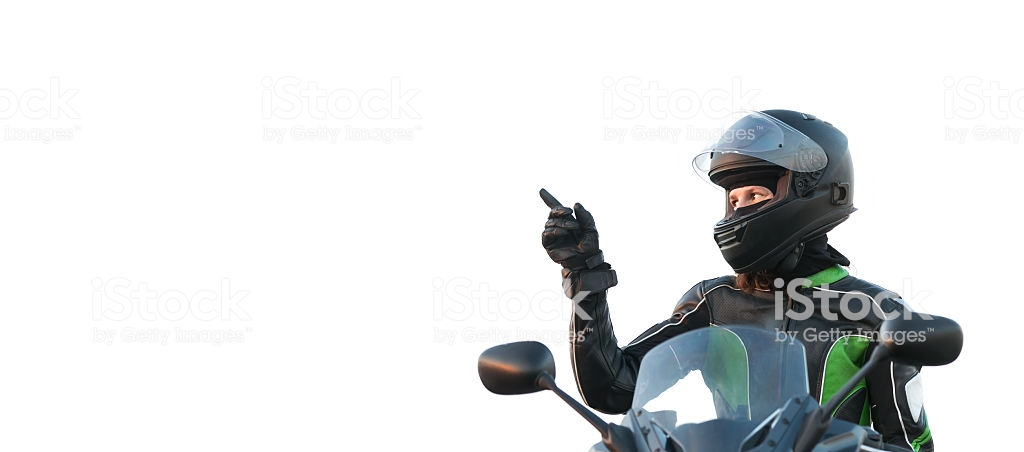helmet: (688, 92, 865, 263)
